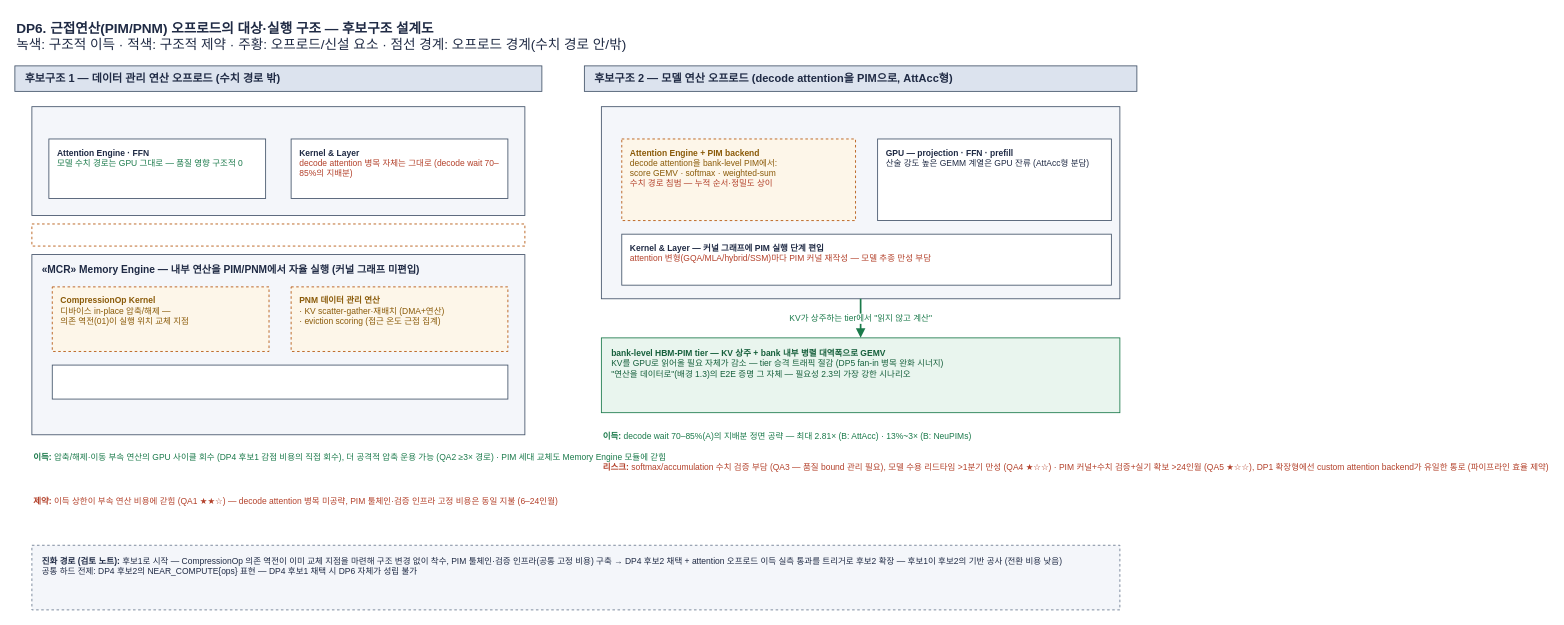
Image size: 1564x625. Some labels were removed from this diagram. The box of each missing label's shape, as (x1, y1, x2, y2) in pixels:
PIM/PNM 디바이스 — 결정론적 codec 변환만 수행 (모델 독립, attention 변형과 무풍): (51, 364, 508, 399)
«MCR» Inference Engine — GPU: (31, 106, 525, 215)
«MCR» Inference Engine — 이종 실행 (attention=PIM, projection/FFN=GPU): (601, 106, 1120, 299)
오프로드 경계 — 수치 경로 밖(데이터 관리 연산)만 아래로: (31, 223, 525, 246)
